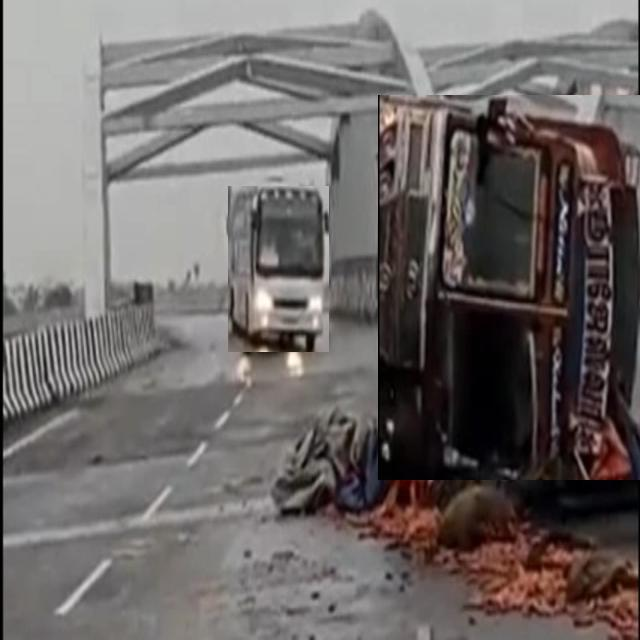accident: (378, 95, 640, 480)
bus: (228, 187, 329, 352)
